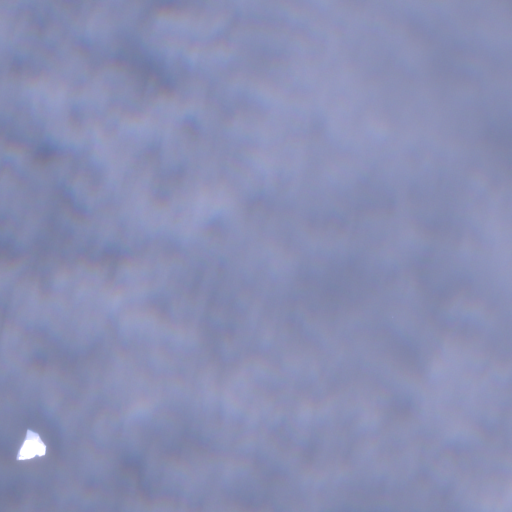Iceberg: (16, 429, 46, 459)
